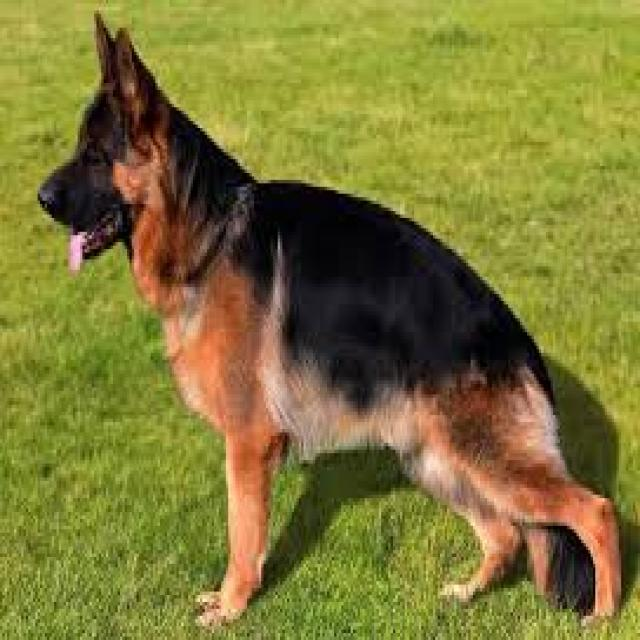GERMAN_SHEPHERD: (31, 17, 630, 634)
